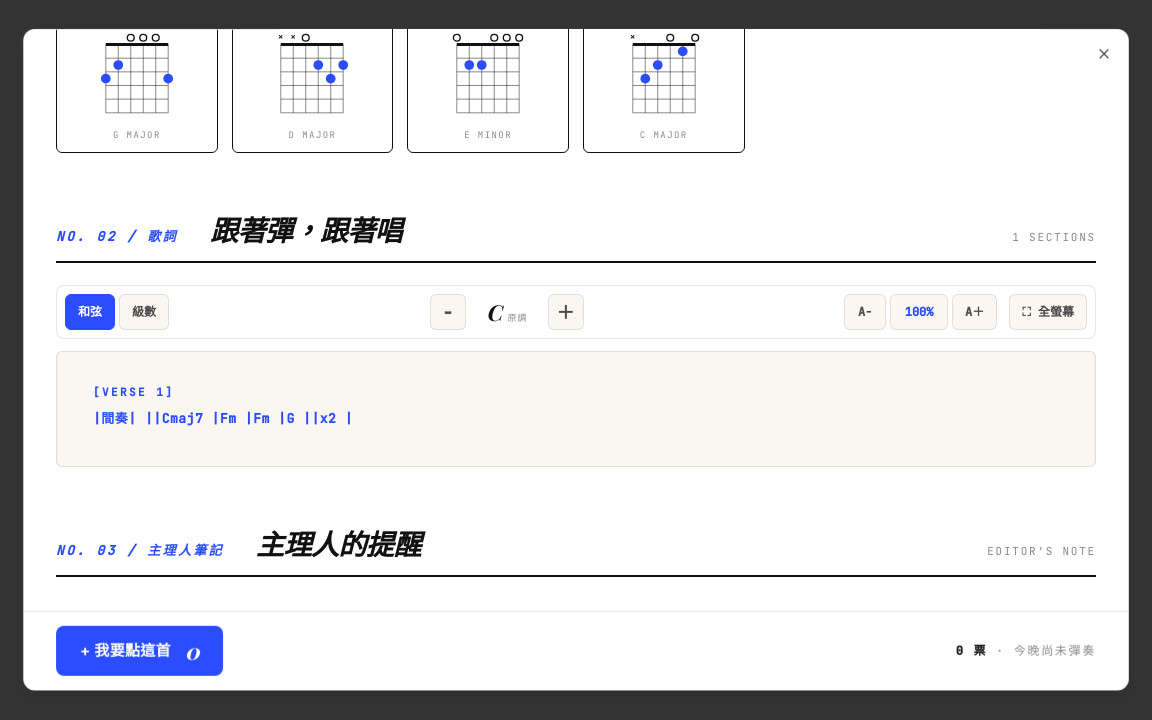
Test: 收藏 AI 吉他譜顯示控制 › 舊資料誤存為歌詞的間奏和弦會自動修復並跟著轉調
The width and height of the screenshot is (1152, 720).
(page scrolled)
expect the text with class "sdp-lyr-chord" reads "|間奏| ||Cmaj7 |Fm |Fm |G ||x2 |": met, box [93,410,353,427]
Click the button named "收藏譜升高半音" at (566, 312), box [548,294,584,330]
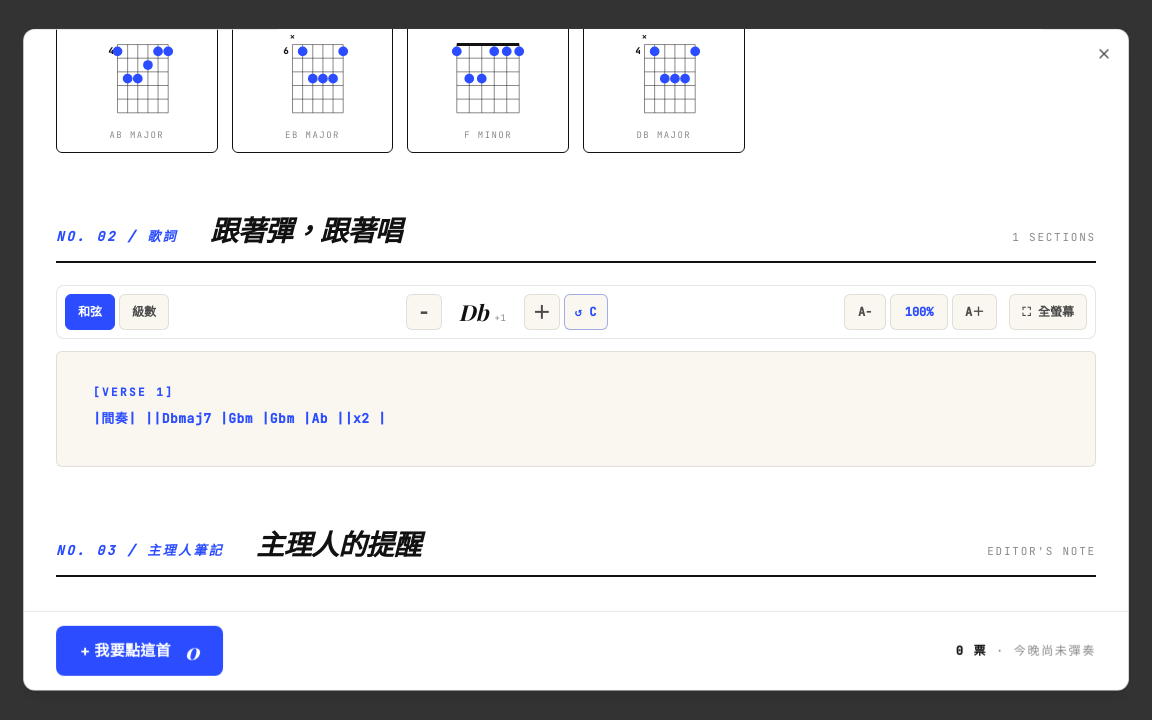
expect the text with class "sdp-lyr-chord" shows "Dbmaj7": met, box [93,410,386,427]
expect the text with class "sdp-lyr-chord" shows "Gbm": met, box [93,410,386,427]
expect the text with class "sdp-lyr-chord" shows "Ab": met, box [93,410,386,427]
